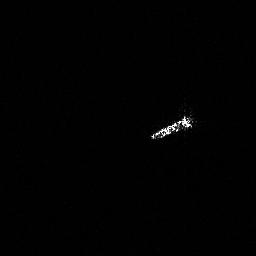ship: (146, 110, 198, 144)
